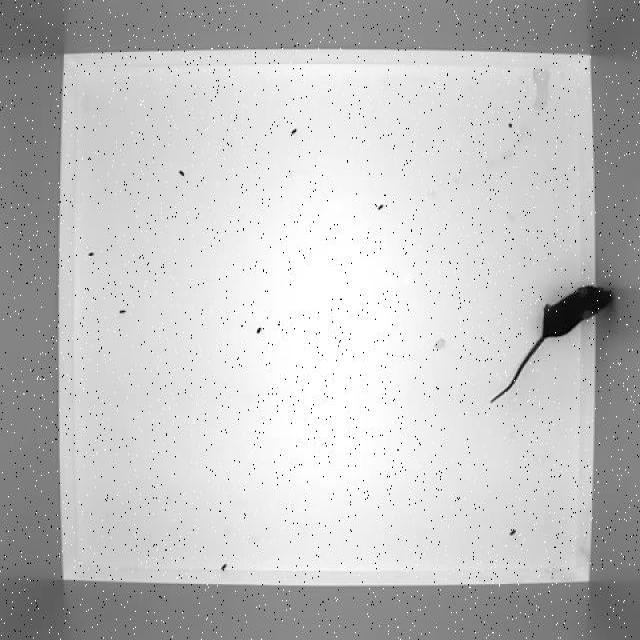rat: (492, 282, 614, 418)
